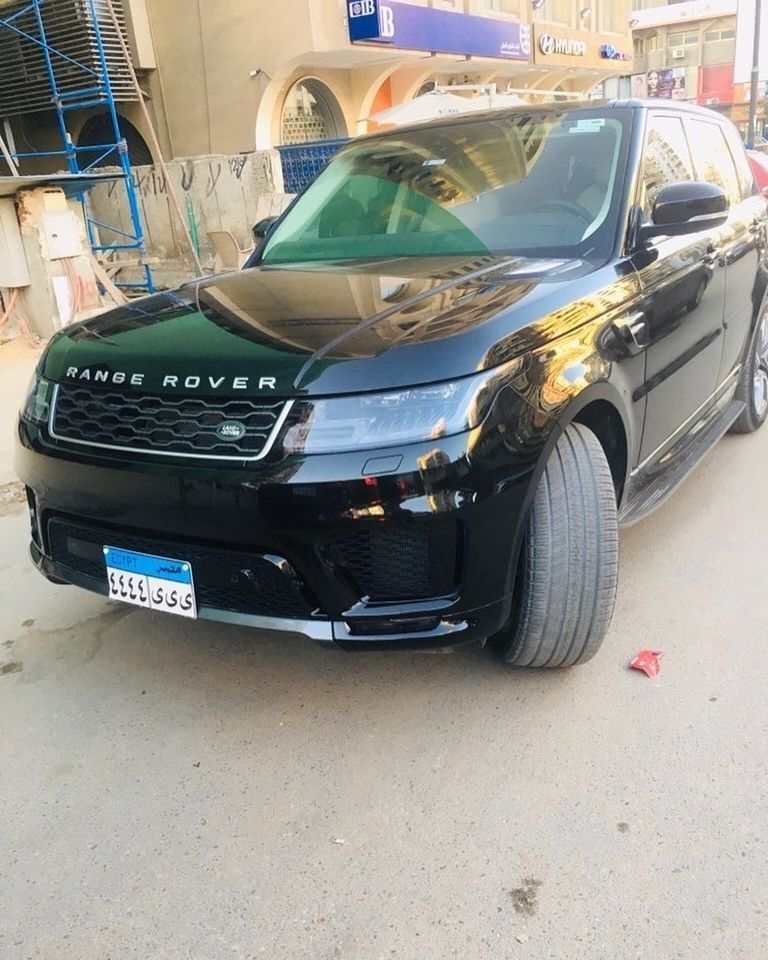carpl: (91, 550, 204, 617)
